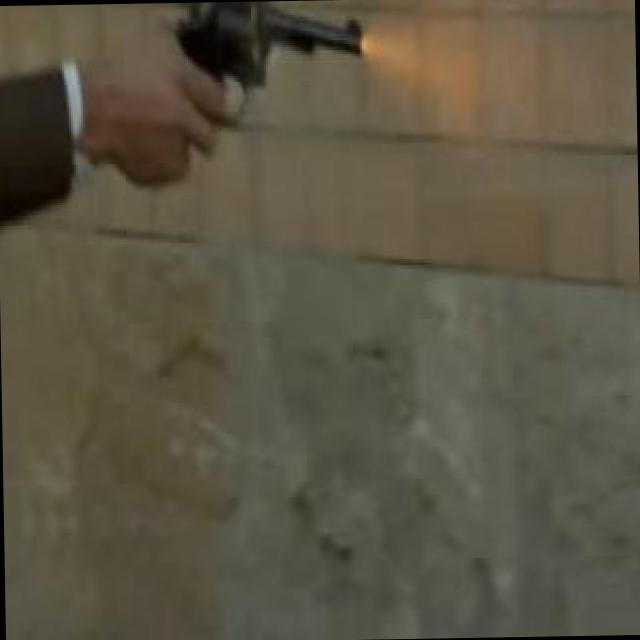Guns: (130, 0, 405, 167)
